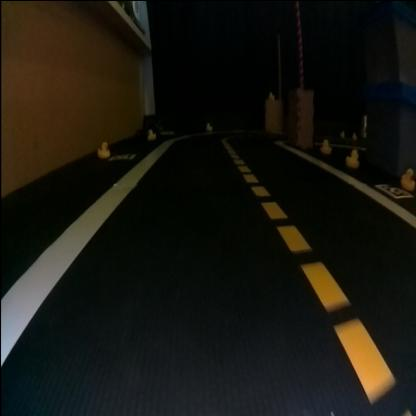Duckie: (96, 140, 110, 158), (347, 148, 359, 166), (322, 138, 332, 150), (148, 128, 156, 138)
